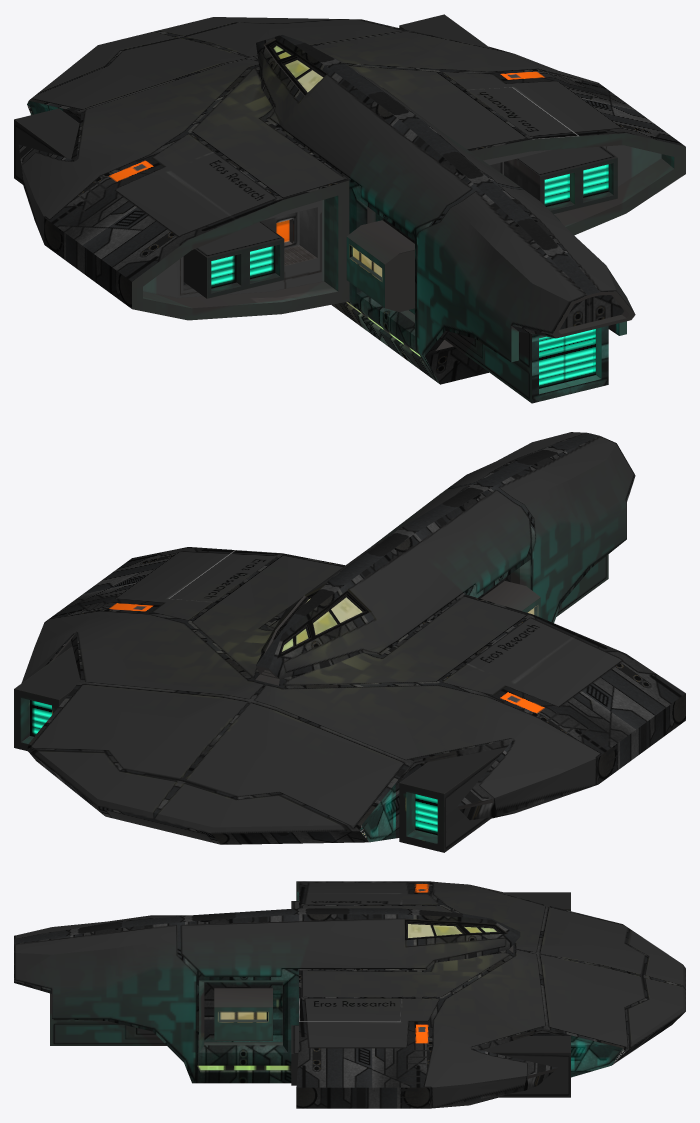
The model's file is erdos.fbx.
3 views of the same model, one above another, from view 1: azimuth 30°, elevation 25°; view 2: azimuth 150°, elevation 25°; view 3: azimuth 270°, elevation 25° (orthographic). The views are drawn at different scales.
Parts seen in each view (by area): view 1: Cube; view 2: Cube; view 3: Cube.
Part boxes in pixels (x1=…): Cube: x1=14, y1=14, x2=685, y2=403; Cube: x1=14, y1=432, x2=685, y2=852; Cube: x1=14, y1=881, x2=685, y2=1108.
Bounding box in the file's own units: 5585 × 1995 × 7685.
